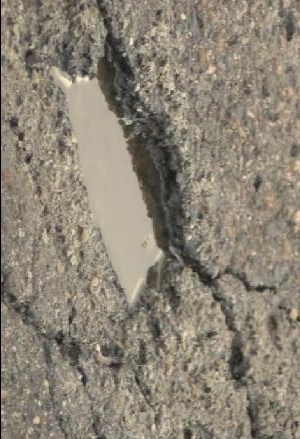pothole: (42, 19, 193, 326)
